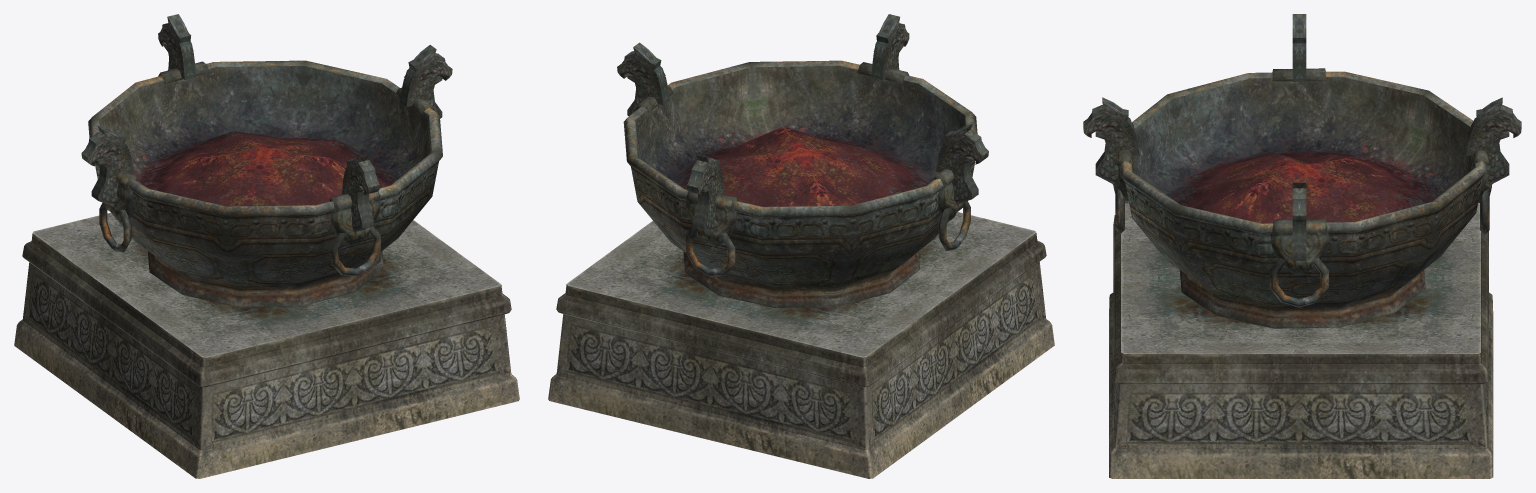
File: Brazier.fbx
3 renders of one model, left to right at view 1: azimuth 30°, elevation 25°; view 2: azimuth 150°, elevation 25°; view 3: azimuth 270°, elevation 25°, orthographic. The views are drawn at different scales.
Visible parts, largest first — view 1: M4_Nigraturis_Brazier01_SM_SCY; view 2: M4_Nigraturis_Brazier01_SM_SCY; view 3: M4_Nigraturis_Brazier01_SM_SCY.
Part boxes in pixels (x1,y1,x2,y2): M4_Nigraturis_Brazier01_SM_SCY: (14, 14, 519, 478); M4_Nigraturis_Brazier01_SM_SCY: (548, 14, 1054, 478); M4_Nigraturis_Brazier01_SM_SCY: (1083, 14, 1521, 478).
Bounding box in the file's own units: 0.3308 × 0.2478 × 0.3308.
Materials: 1 (1 with a texture image).
